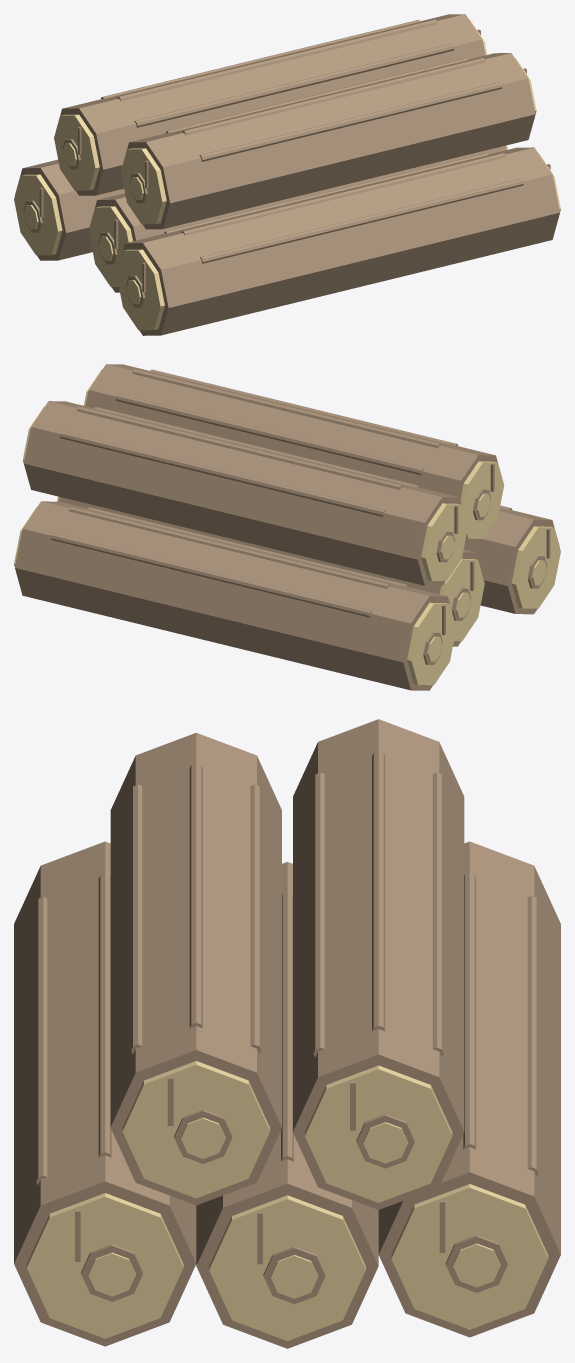
The model's file is log-pile.glb.
The picture shows the model from 3 angles, top to bottom: view 1: azimuth 30°, elevation 25°; view 2: azimuth 150°, elevation 25°; view 3: azimuth 270°, elevation 25°; orthographic projection. The views are drawn at different scales.
Parts seen in each view (by area): view 1: log-pile_bark, log-pile_cut; view 2: log-pile_bark, log-pile_cut; view 3: log-pile_bark, log-pile_cut.
Part boxes in pixels (x1=…): log-pile_bark: x1=15, y1=14, x2=559, y2=335; log-pile_cut: x1=14, y1=19, x2=560, y2=330; log-pile_bark: x1=15, y1=364, x2=559, y2=690; log-pile_cut: x1=14, y1=369, x2=560, y2=685; log-pile_bark: x1=14, y1=719, x2=560, y2=1348; log-pile_cut: x1=26, y1=1061, x2=548, y2=1340.
Bounding box in the file's own units: 0.53 × 0.2075 × 0.34.
